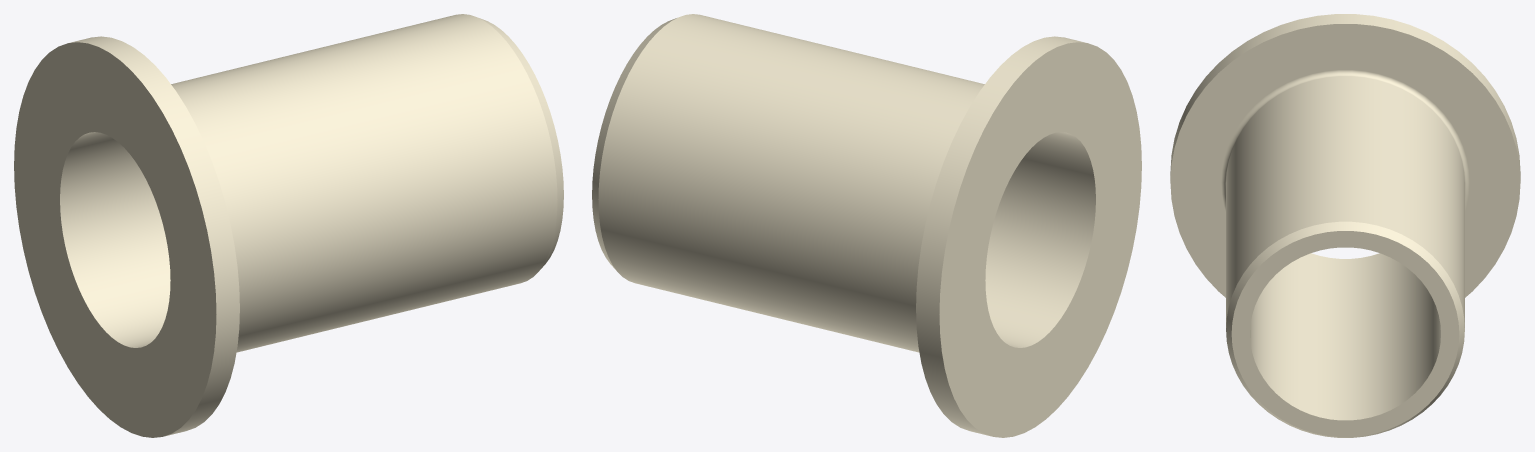
File: _2706T66_Dry_Running_Flanged_Sleeve_Bearing.gltf
The picture shows the model from 3 angles, left to right: view 1: azimuth 30°, elevation 25°; view 2: azimuth 150°, elevation 25°; view 3: azimuth 270°, elevation 25°; orthographic projection. The views are drawn at different scales.
Parts seen in each view (by area): view 1: mesh5628, mesh5633, mesh5634, mesh5632, mesh5629; view 2: mesh5628, mesh5633, mesh5634, mesh5632, mesh5629; view 3: mesh5628, mesh5631, mesh5634, mesh5635, mesh5629, mesh5632, mesh5630.
Boxes of the visible parts, bbox=[...] form: mesh5628: bbox=[171, 14, 557, 352]; mesh5633: bbox=[14, 42, 216, 437]; mesh5634: bbox=[60, 132, 170, 347]; mesh5632: bbox=[68, 36, 239, 436]; mesh5629: bbox=[479, 18, 563, 270]; mesh5628: bbox=[598, 14, 984, 352]; mesh5633: bbox=[939, 42, 1141, 437]; mesh5634: bbox=[985, 132, 1095, 347]; mesh5632: bbox=[916, 36, 1087, 436]; mesh5629: bbox=[592, 18, 676, 270]; mesh5628: bbox=[1226, 76, 1464, 327]; mesh5631: bbox=[1170, 24, 1520, 297]; mesh5634: bbox=[1250, 253, 1440, 420]; mesh5635: bbox=[1231, 231, 1459, 436]; mesh5629: bbox=[1226, 221, 1464, 437]; mesh5632: bbox=[1170, 14, 1520, 180]; mesh5630: bbox=[1221, 70, 1469, 211].
Size of the model in its own units: 0.0191 by 0.0174 by 0.0174.
